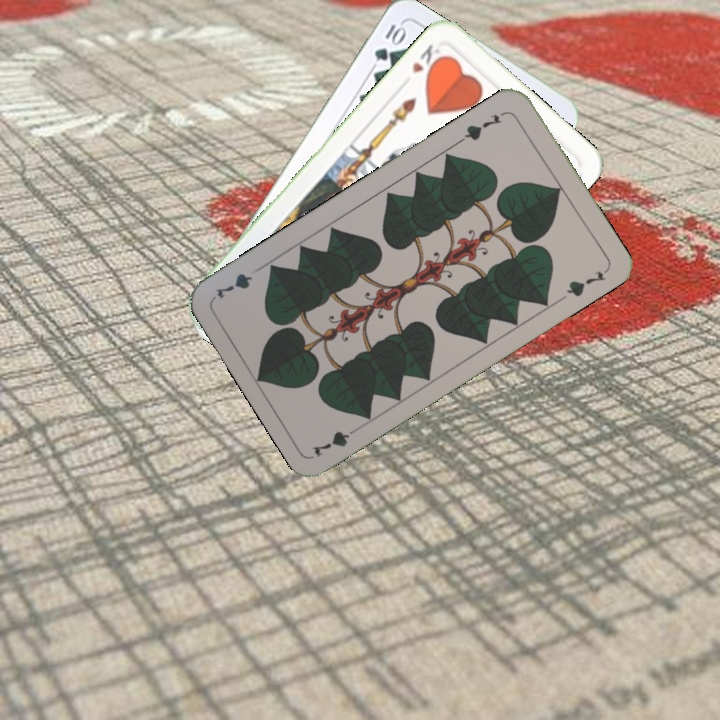G10: (370, 20, 408, 64)
G7: (308, 421, 364, 460), (456, 107, 509, 145)
HK: (407, 40, 447, 79)
